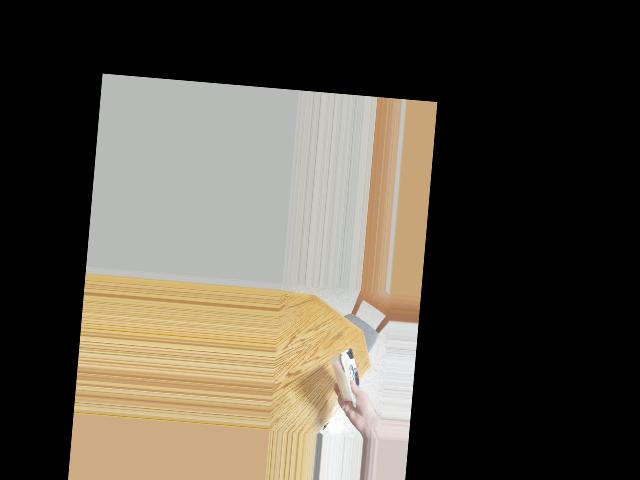cheese: (325, 349, 372, 403)
